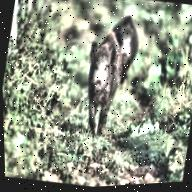boar: (59, 9, 139, 130)
